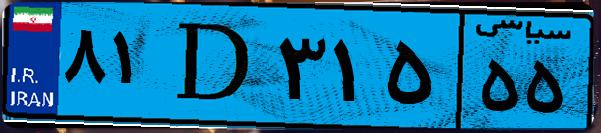1: (330, 28, 385, 110), (110, 28, 158, 98)
3: (270, 28, 330, 110)
5: (385, 28, 445, 110), (475, 38, 525, 113), (525, 38, 570, 115)
8: (57, 26, 110, 100)
D: (158, 12, 270, 120)
